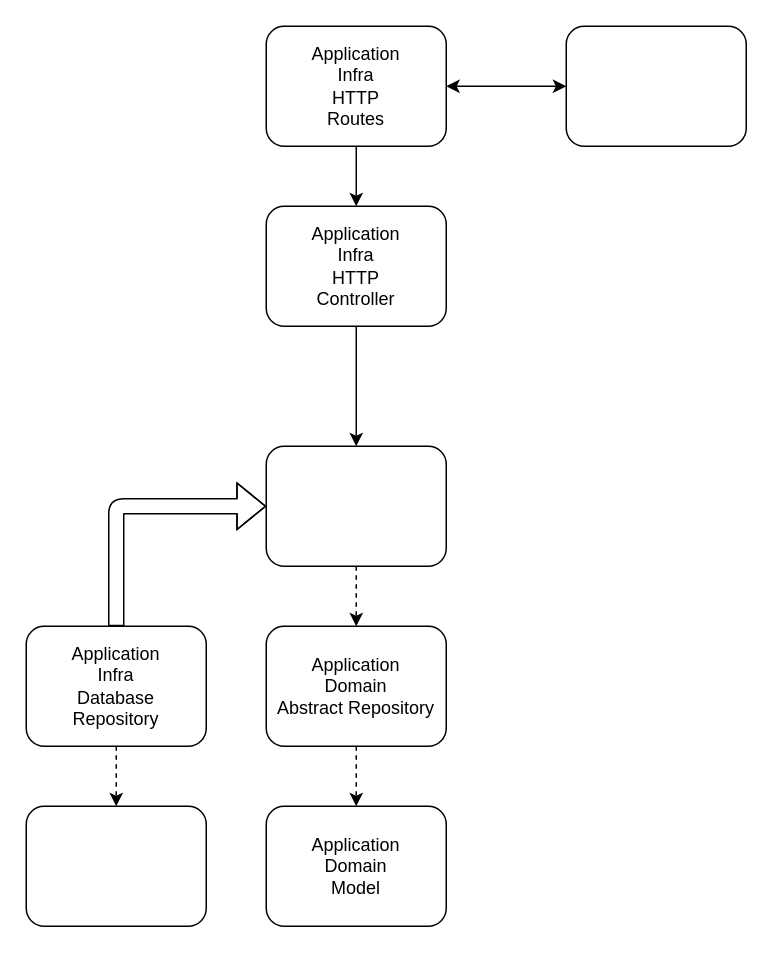
Some shapes in this 773 by 953 pixel diagram are drawn without their labels. The shapes that lost their labels are listed below. From the top down, each one's box as (x1, y1, x2, y2) in pixels, then its label:
(565, 25, 746, 146): Application validation
(265, 445, 446, 566): Application Domain Service
(25, 805, 206, 926): Application Infra Database Model
